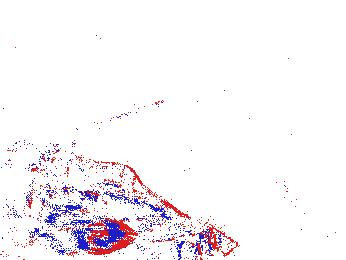X-ray fish: (24, 205, 135, 255), (118, 217, 236, 260)
glassfish: (271, 174, 346, 251)
siberian prawn: (13, 141, 186, 224)
